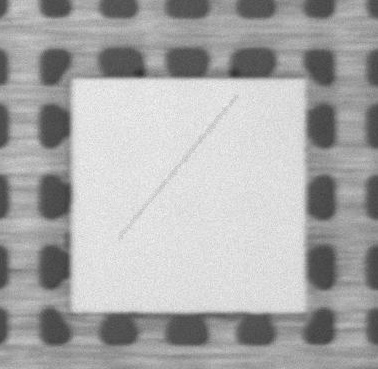DIE_CRACK: (122, 94, 243, 232)
